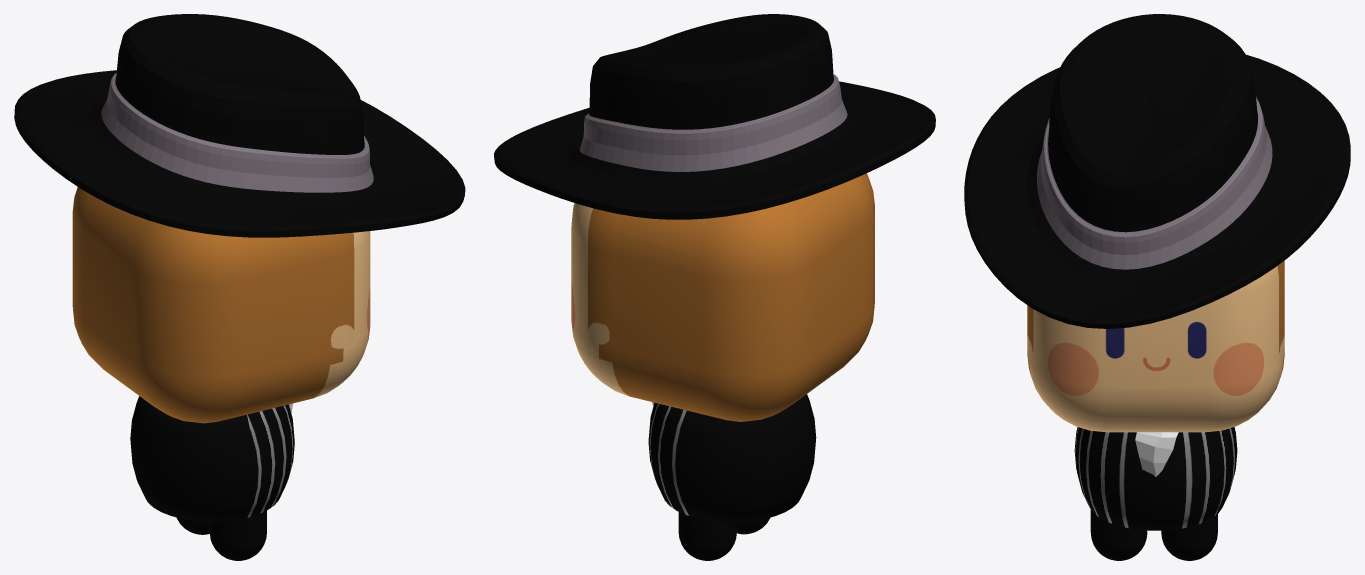
The model's file is AvatarT.fbx.
The picture shows the model from 3 angles, left to right: view 1: azimuth 30°, elevation 25°; view 2: azimuth 150°, elevation 25°; view 3: azimuth 270°, elevation 25°; orthographic projection. The views are drawn at different scales.
Parts seen in each view (by area): view 1: Cube.007, Cylinder.001; view 2: Cube.007, Cylinder.001; view 3: Cylinder.001, Cube.007, Plane.
Boxes of the visible parts, x1,y1,x2,y2 form: Cube.007: [72, 187, 370, 560]; Cylinder.001: [14, 14, 465, 237]; Cube.007: [571, 173, 874, 560]; Cylinder.001: [494, 14, 935, 219]; Cylinder.001: [964, 14, 1350, 328]; Cube.007: [1027, 260, 1284, 560]; Plane: [1135, 432, 1178, 476].
Size of the model in its own units: 302 by 379 by 262.
Materials: 3 (1 with a texture image).
